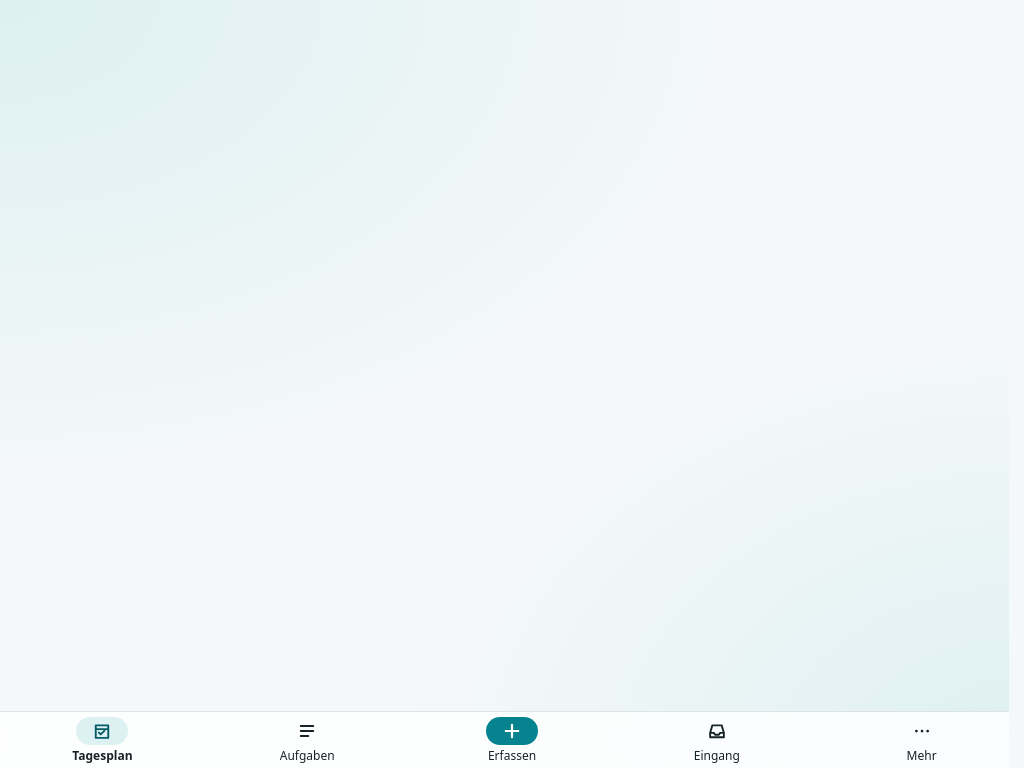
Scenario: phone frame: "Mehr" › marks the pages of the administrator "nur am PC" on another device, and keeps them reachable
Click the button "Mehr" at (922, 740), box [819, 712, 1023, 767]
(page scrolled)
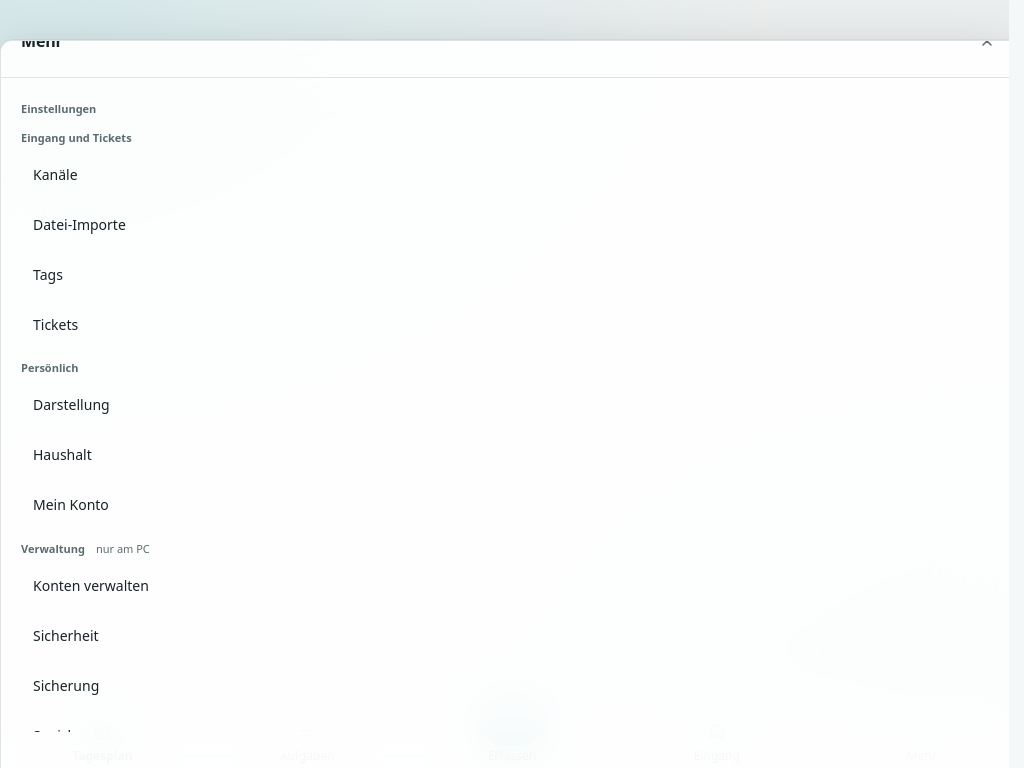
Now the text "Verwaltung nur am PC" is shown, box [21, 540, 150, 556]
Now the link "Darstellung" is shown, box [33, 395, 110, 414]
